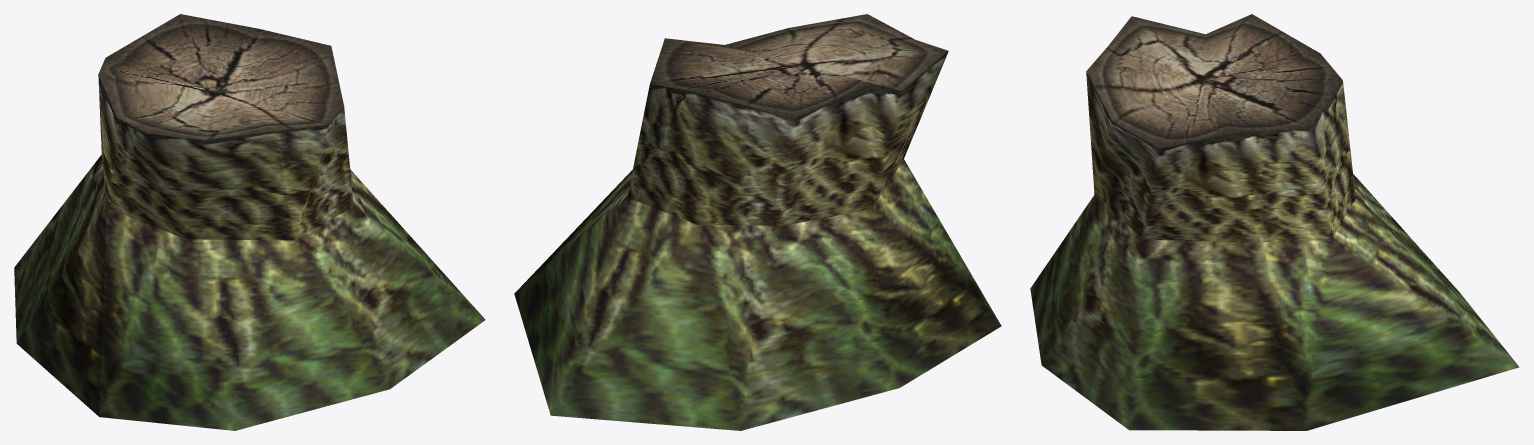
File: TREE_03M.glb
3 renders of one model, left to right at view 1: azimuth 30°, elevation 25°; view 2: azimuth 150°, elevation 25°; view 3: azimuth 270°, elevation 25°, orthographic. The views are drawn at different scales.
Parts seen in each view (by area): view 1: TREE_03M; view 2: TREE_03M; view 3: TREE_03M.
Part boxes in pixels (bbox=[...]): TREE_03M: bbox=[14, 14, 485, 430]; TREE_03M: bbox=[514, 14, 1001, 430]; TREE_03M: bbox=[1030, 14, 1519, 430].
Bounding box in the file's own units: 1.59 × 1.07 × 1.77.
3 materials, 3 textured.
